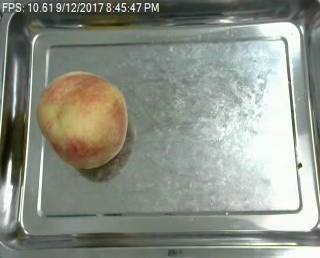Peach: (37, 70, 128, 170)
